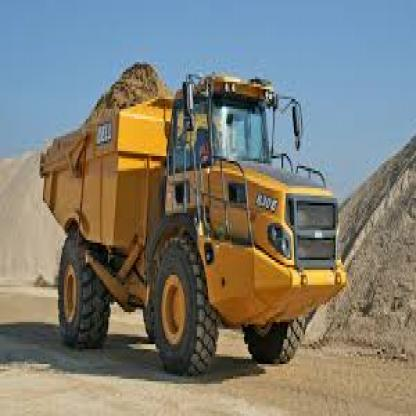dump_truck: (40, 37, 355, 384)
